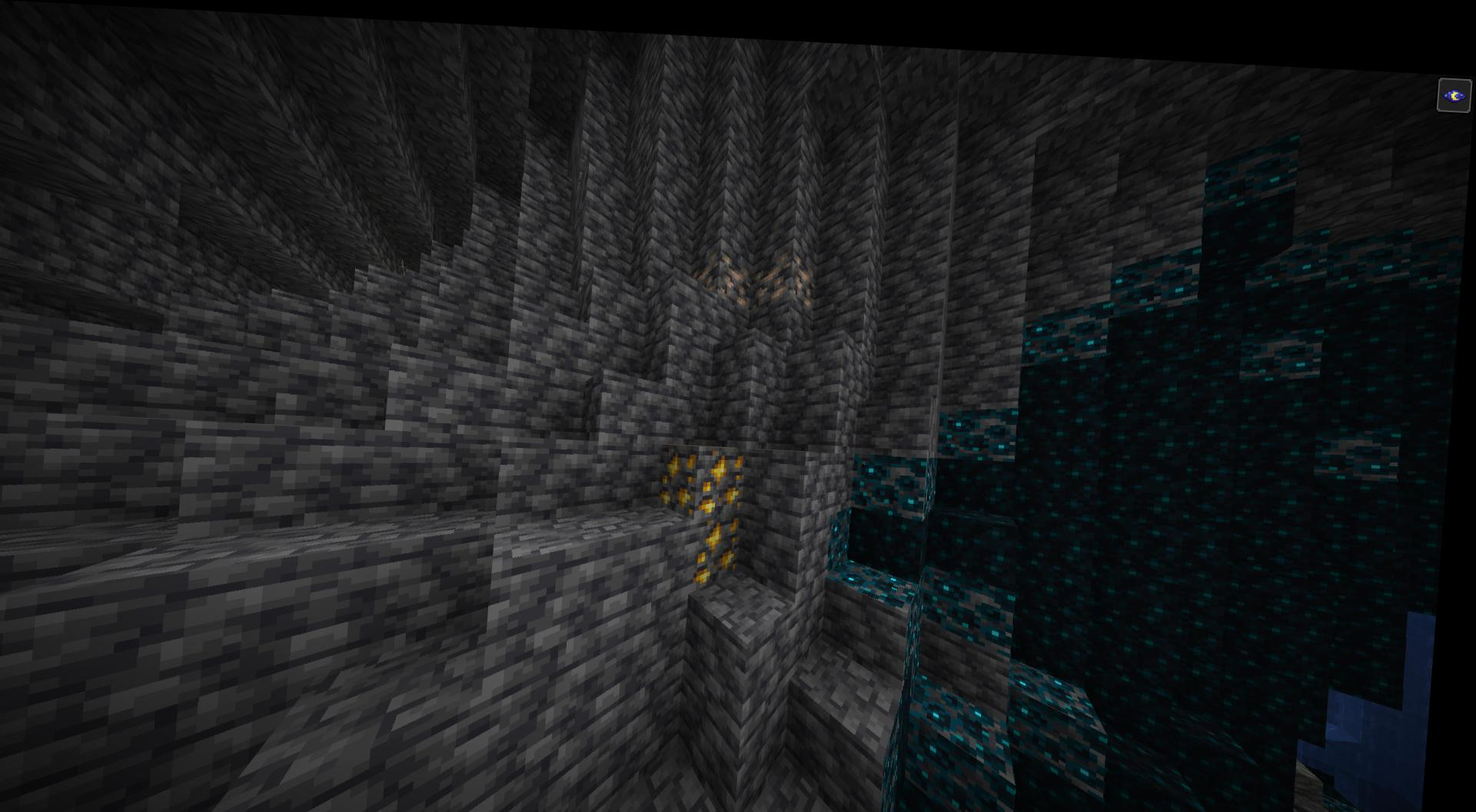gold ore: (657, 434, 710, 507), (706, 434, 753, 508), (705, 510, 753, 582)
iron ore: (762, 247, 822, 305), (694, 245, 757, 299)
